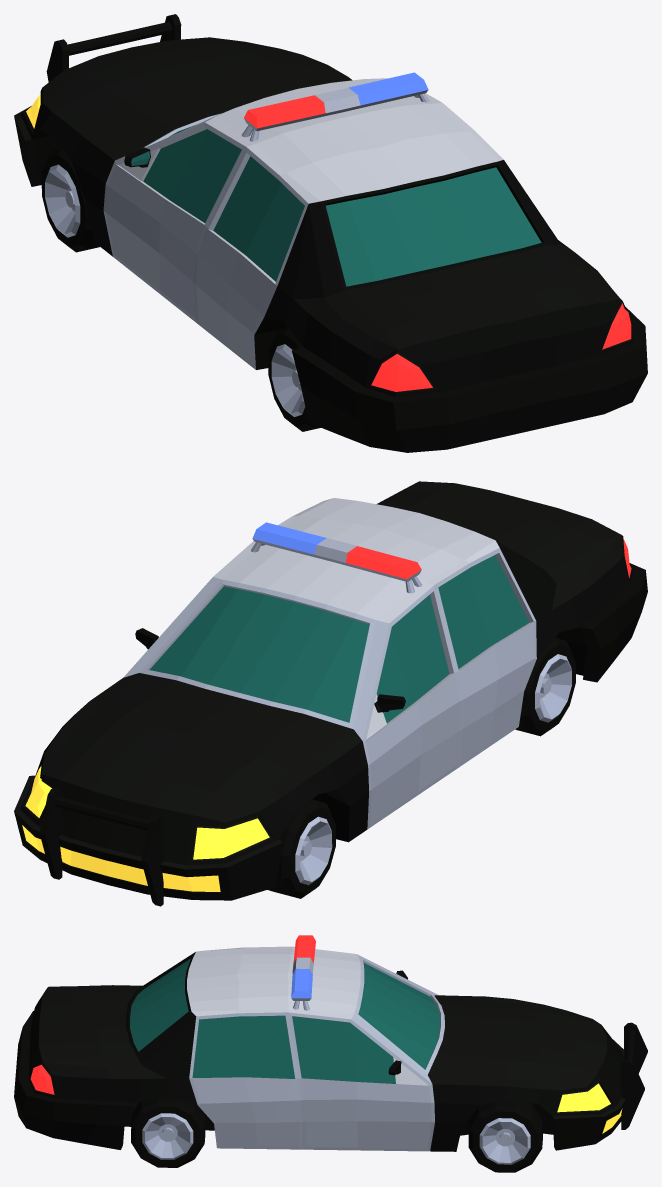
Rendered from PoliceCar_01.glb.
3 views of the same model, one above another, from view 1: azimuth 30°, elevation 25°; view 2: azimuth 150°, elevation 25°; view 3: azimuth 270°, elevation 25° (orthographic). The views are drawn at different scales.
Parts seen in each view (by area): view 1: CarPolice_01; view 2: CarPolice_01; view 3: CarPolice_01.
Boxes of the visible parts, left/top/right/bottom form: CarPolice_01: left=14, top=14, right=647, bottom=452; CarPolice_01: left=14, top=481, right=647, bottom=906; CarPolice_01: left=14, top=935, right=647, bottom=1172.
Size of what is drawn, in the model's own units: 2.65 by 1.92 by 6.75.
1 material, 1 textured.
